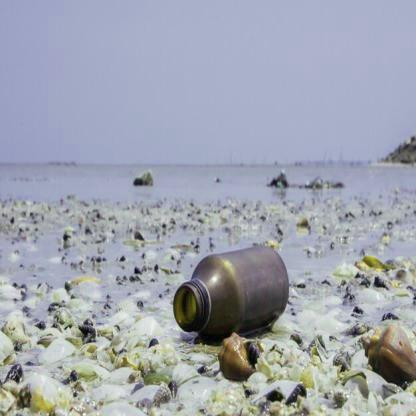Plastic: (171, 238, 292, 344)
